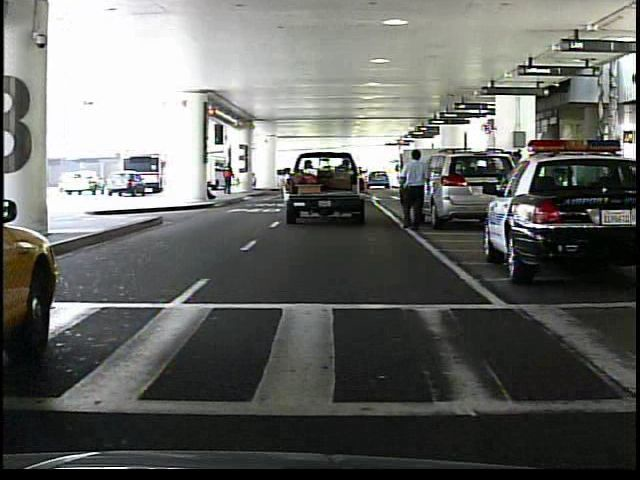person: (396, 147, 436, 231), (221, 160, 237, 197)
